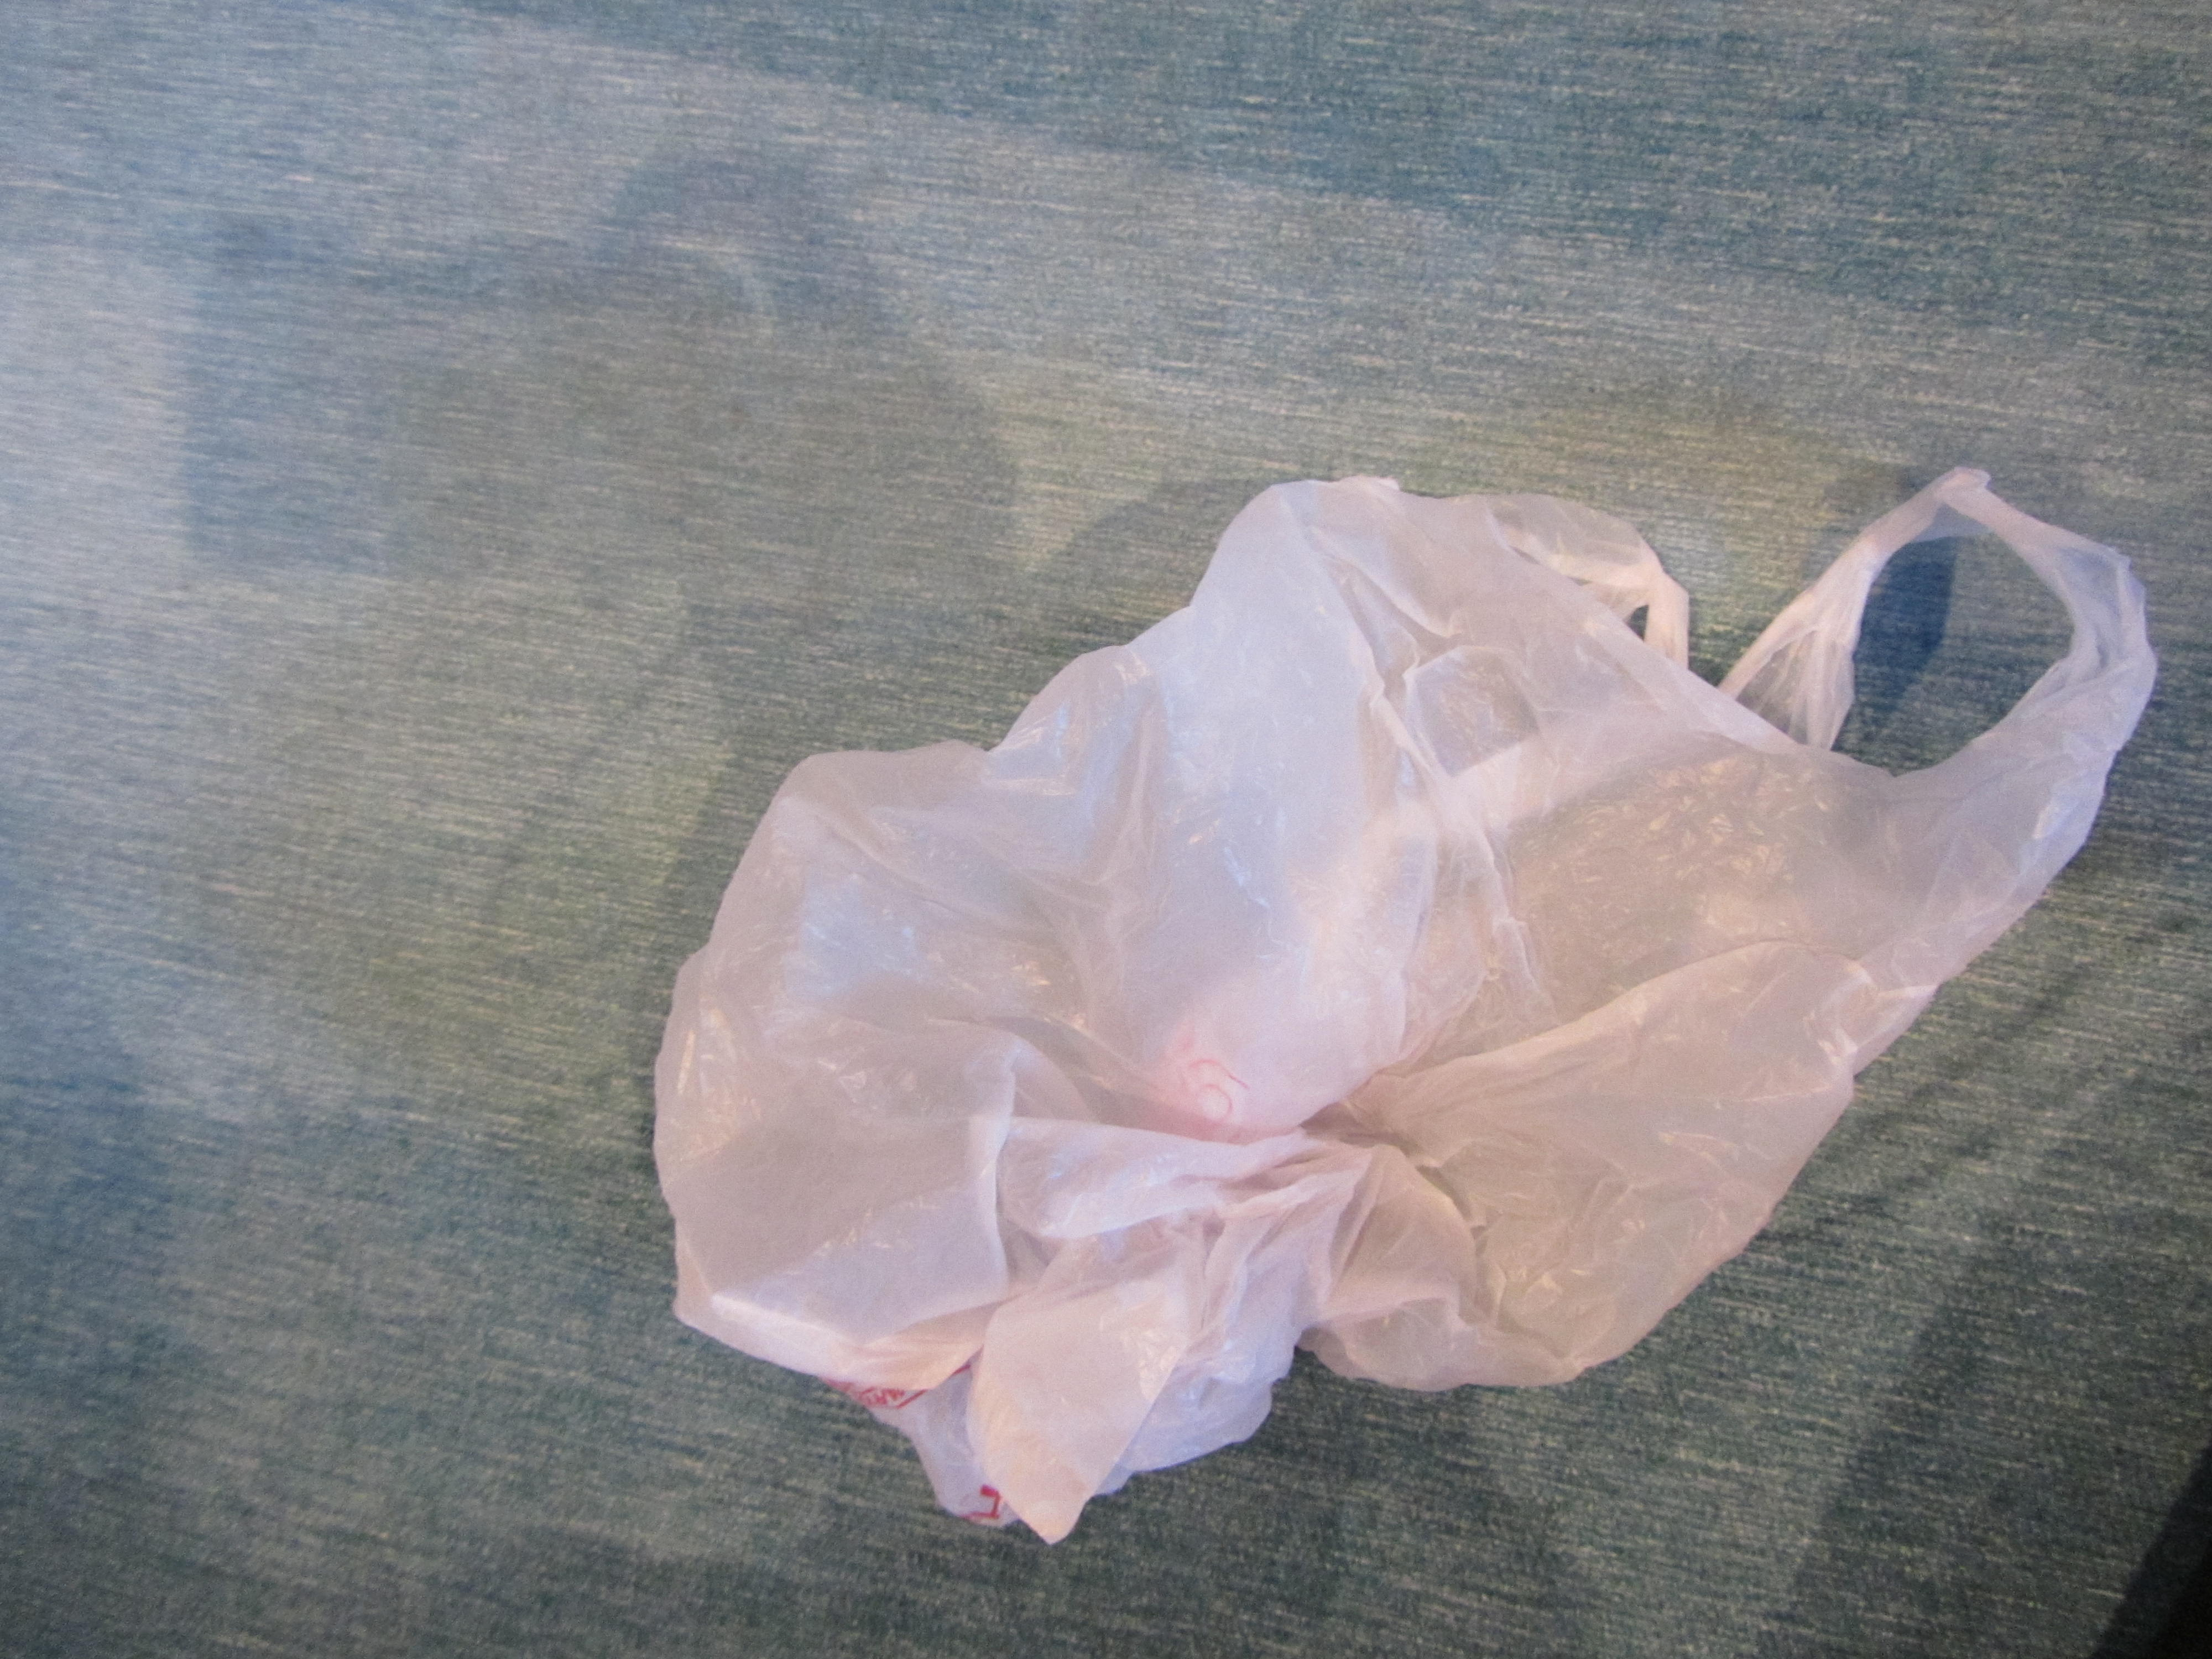plastic_bag: (639, 455, 2144, 1554)
